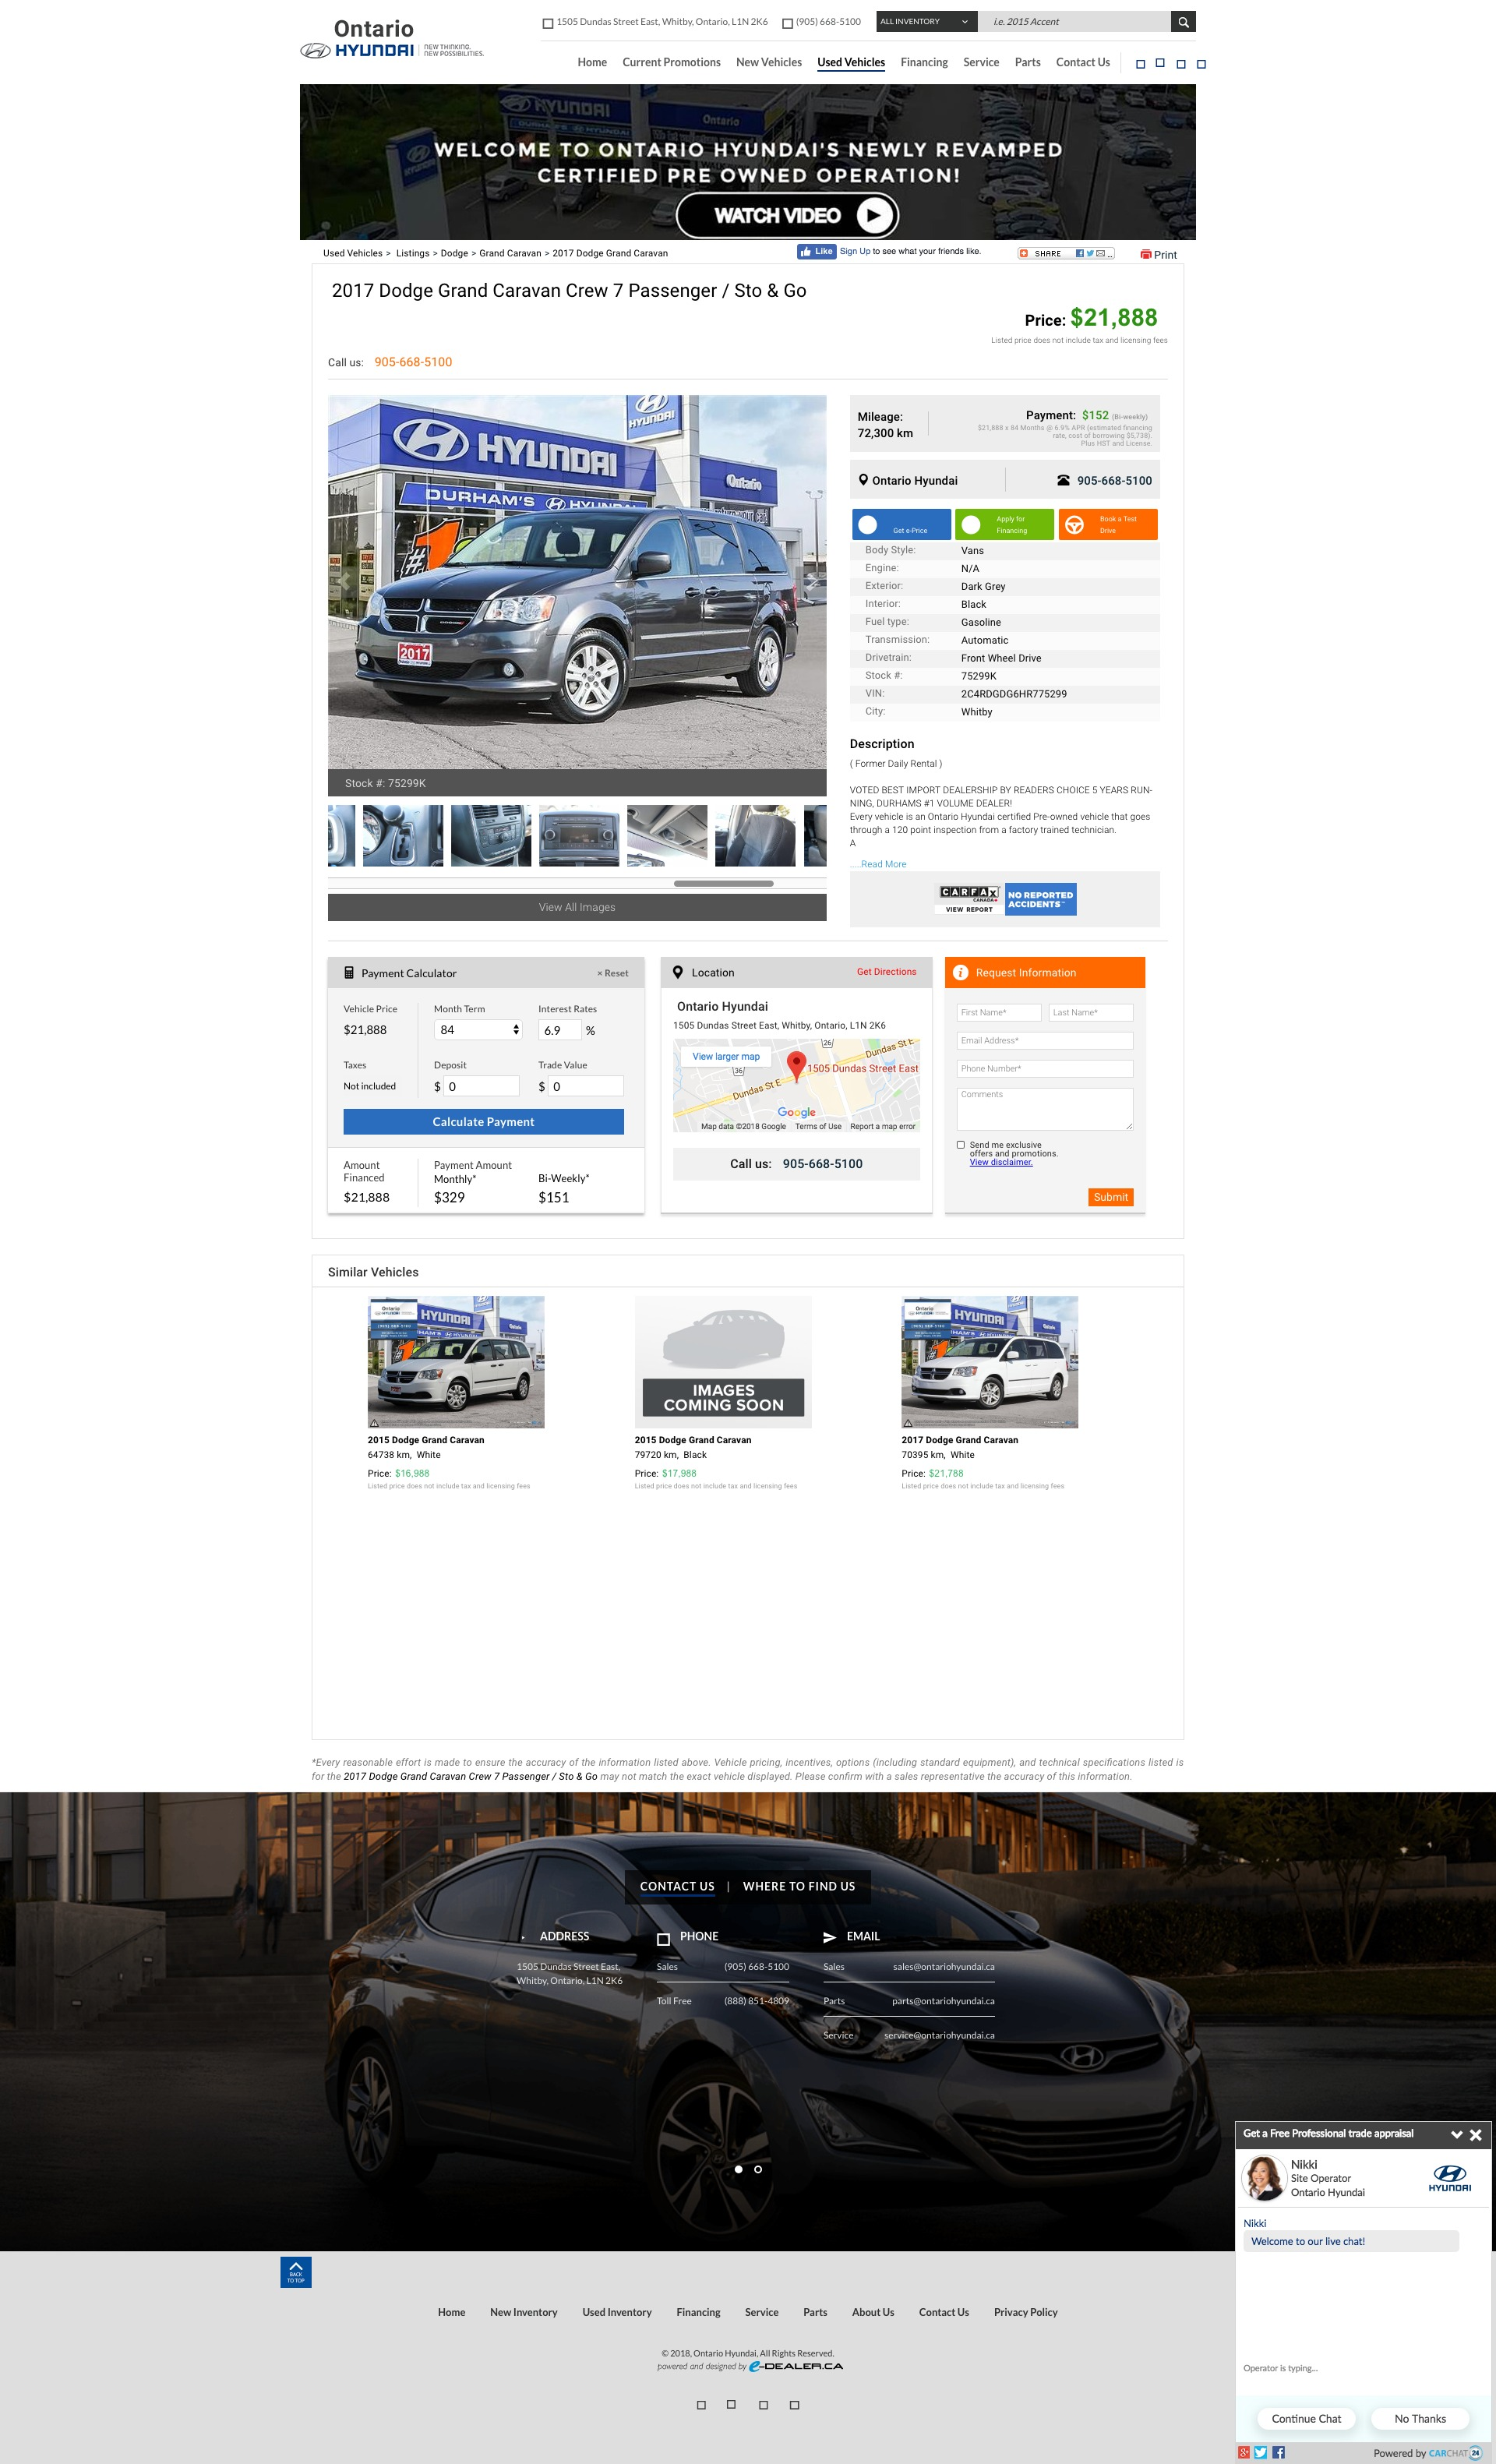car: (794, 563, 829, 602)
